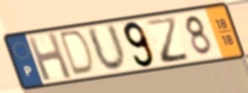8: (184, 14, 214, 57)
9: (121, 20, 156, 69)
D: (58, 28, 97, 78)
H: (25, 31, 75, 84)
U: (84, 22, 129, 74)
Z: (144, 15, 193, 66)
